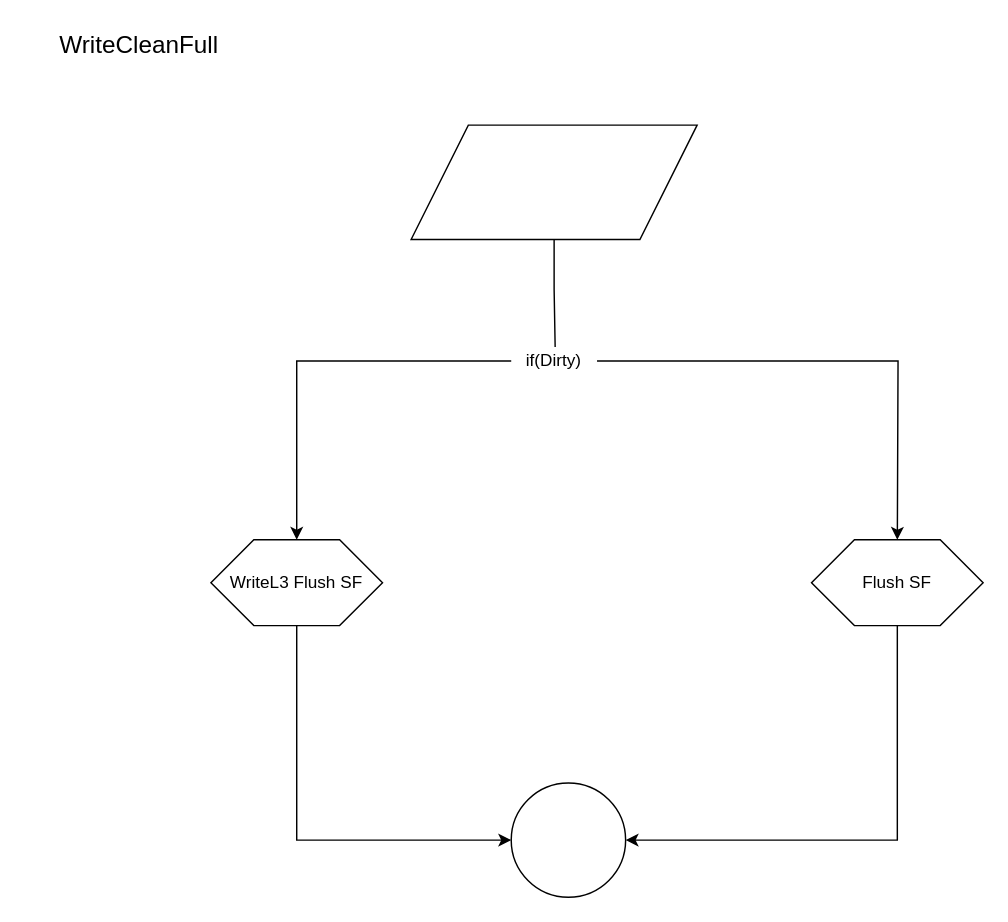
Some shapes in this 1008 by 922 pixel diagram are drawn without their labels. Here are the shapes that lost their labels. From the top down, the centre of each, then its label:
At pixel 553 182: "Tx compDBIDResp".
At pixel 568 839: "Exit".
